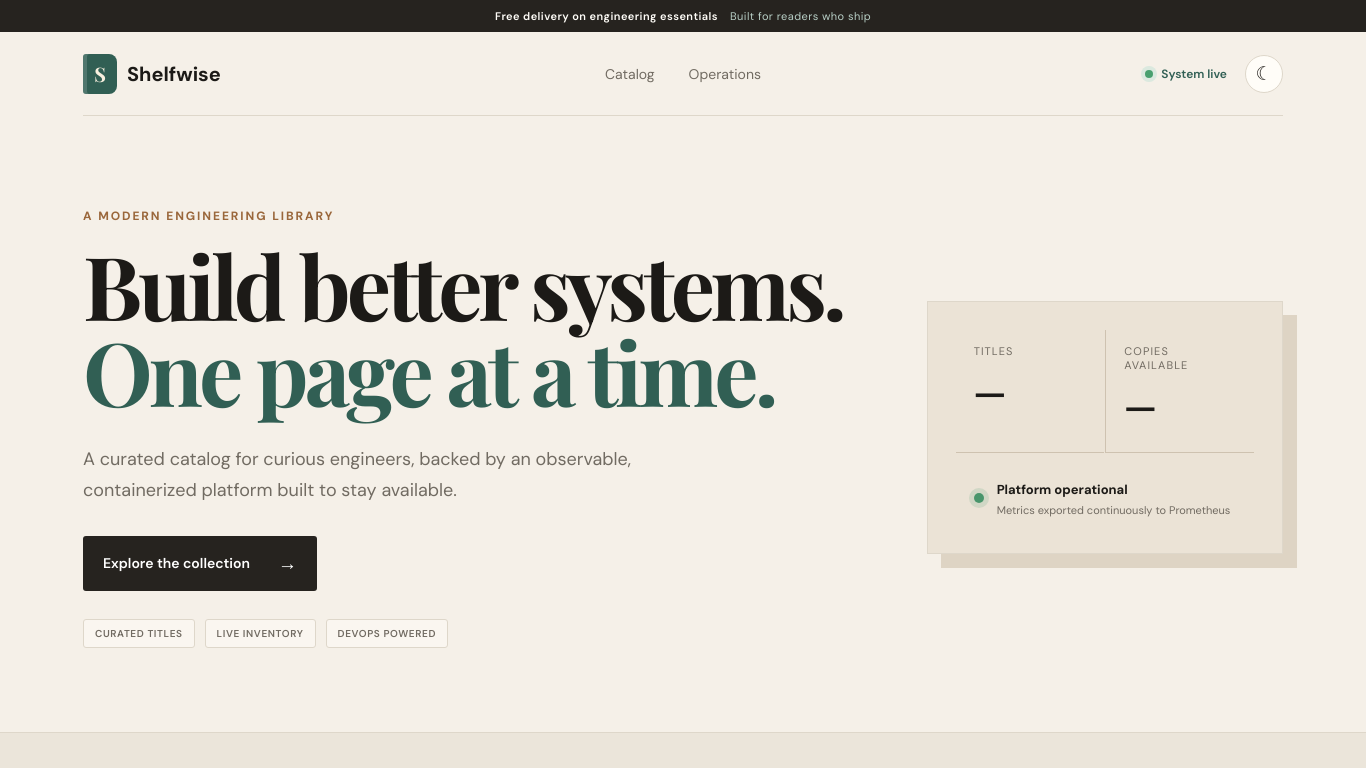
App › switches to dark theme and remembers the choice
This screenshot has width=1366, height=768.
Click the button named "switch to dark theme": (1264, 74) [1245,54,1283,92]
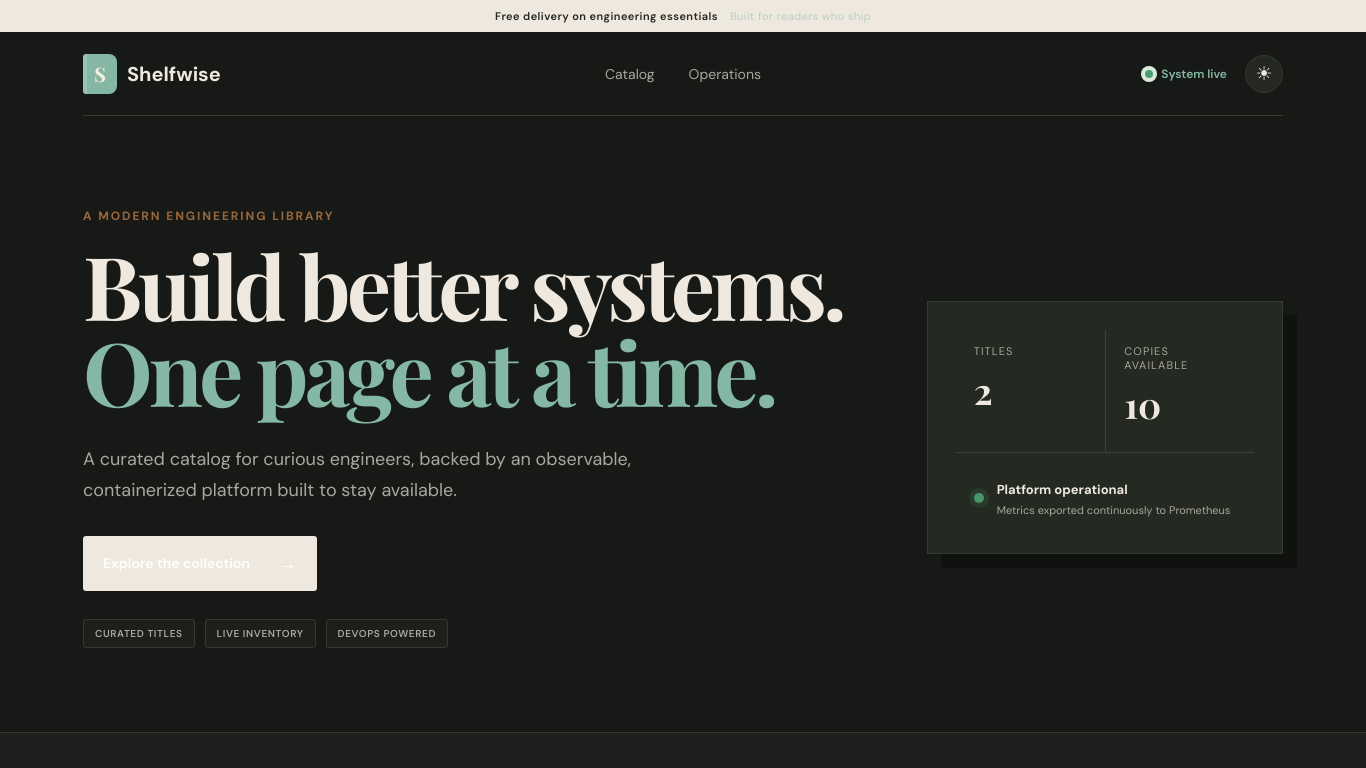
Expected: the button named "switch to light theme" is shown, [1245,54,1283,92]
